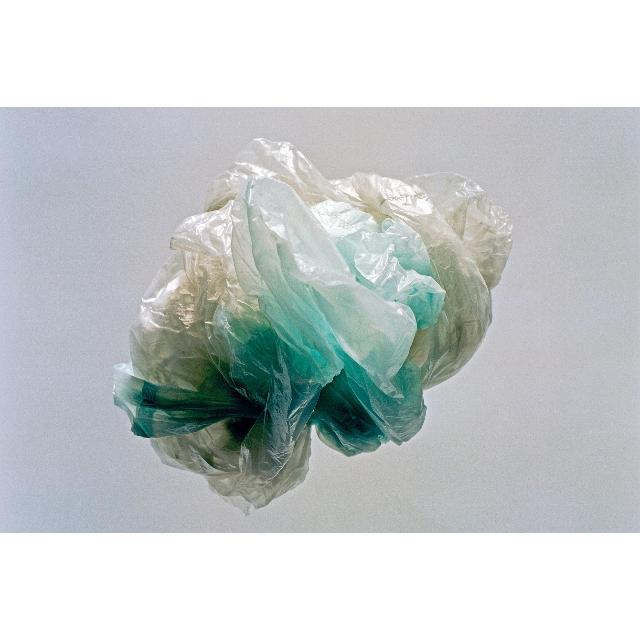plastic: (113, 139, 511, 510)
